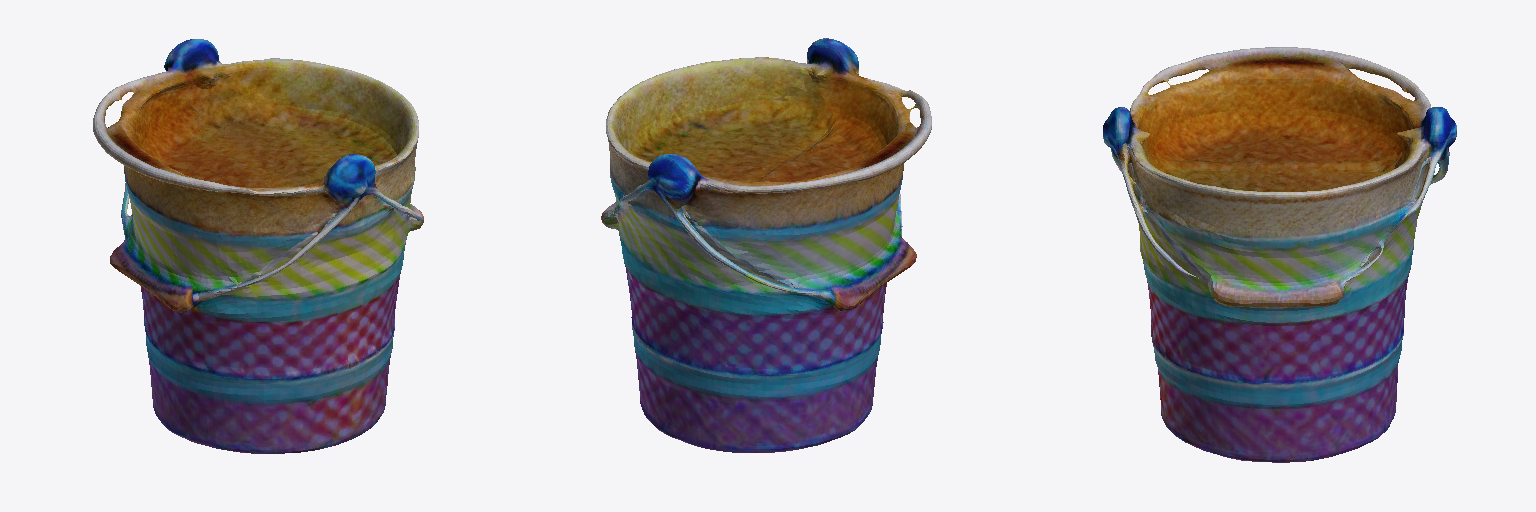
The picture shows the model from 3 angles: view 1: azimuth 30°, elevation 25°; view 2: azimuth 150°, elevation 25°; view 3: azimuth 270°, elevation 25°; orthographic projection.
Parts seen in each view (by area): view 1: mesh; view 2: mesh; view 3: mesh.
Part boxes in pixels (x1,y1,x2,y2): mesh: (93,39,423,453); mesh: (601,38,931,452); mesh: (1103,47,1456,462).
Bounding box in the file's own units: 0.9263 × 0.9621 × 0.9994.
Materials: 1 (1 with a texture image).